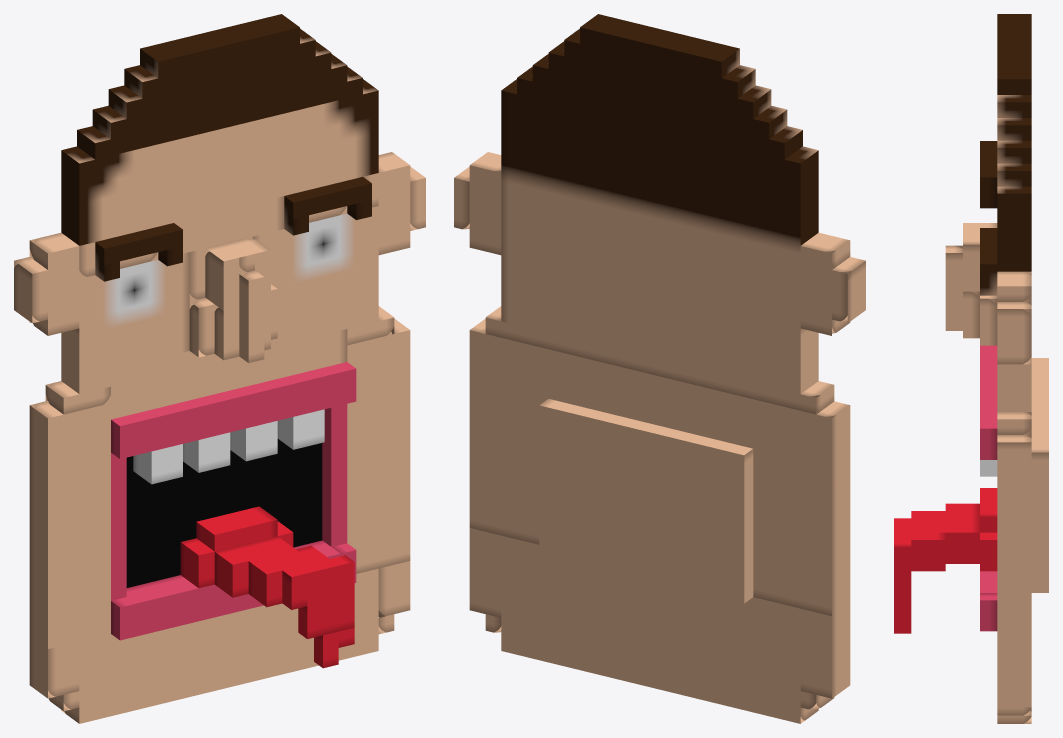
Rendered from EveryHead.dae.
The picture shows the model from 3 angles, left to right: view 1: azimuth 30°, elevation 25°; view 2: azimuth 150°, elevation 25°; view 3: azimuth 270°, elevation 25°; orthographic projection. The views are drawn at different scales.
Visible parts, largest first — view 1: Head; view 2: Head; view 3: Head.
Boxes of the visible parts, x1,y1,x2,y2 form: Head: [14, 14, 425, 723]; Head: [454, 14, 865, 723]; Head: [894, 14, 1048, 723].
Size of the model in its own units: 25 by 39 by 9.
Materials: 1 (1 with a texture image).
